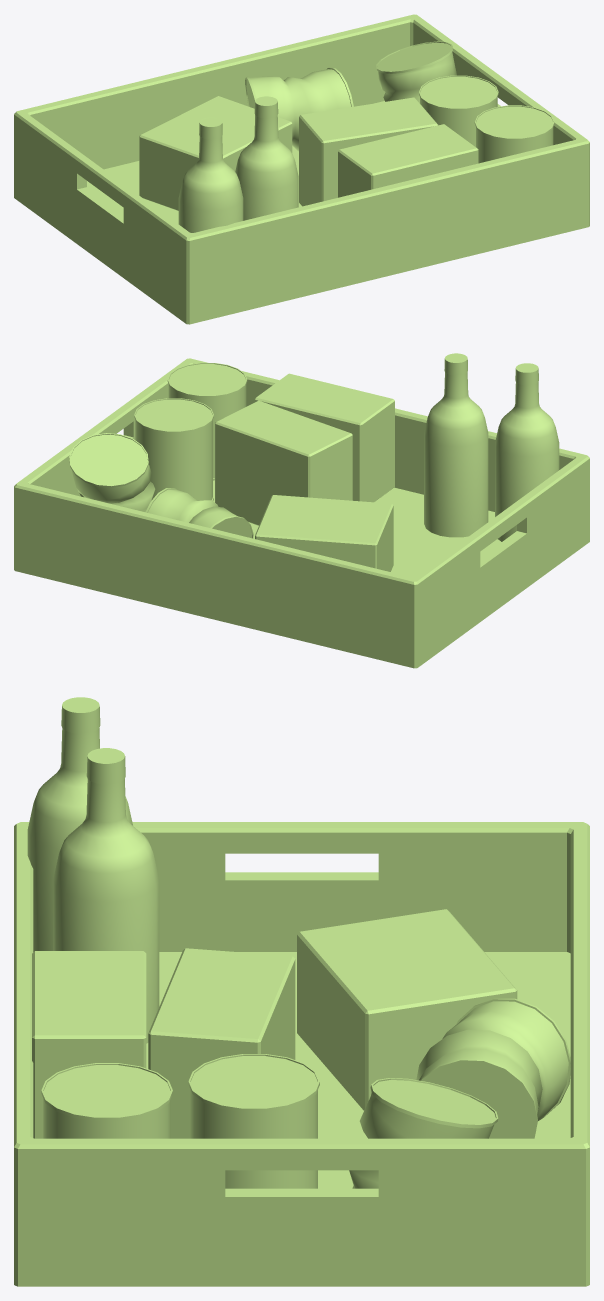
Rendered from cajo1.FBX.
3 views of the same model, one above another, from view 1: azimuth 30°, elevation 25°; view 2: azimuth 150°, elevation 25°; view 3: azimuth 270°, elevation 25° (orthographic). The views are drawn at different scales.
Visible parts, largest first — view 1: cajo1; view 2: cajo1; view 3: cajo1.
Part boxes in pixels (bbox=[...]): cajo1: bbox=[14, 14, 589, 324]; cajo1: bbox=[14, 353, 589, 668]; cajo1: bbox=[14, 697, 589, 1286].
Size of the model in its own units: 40 by 16.78 by 30.
